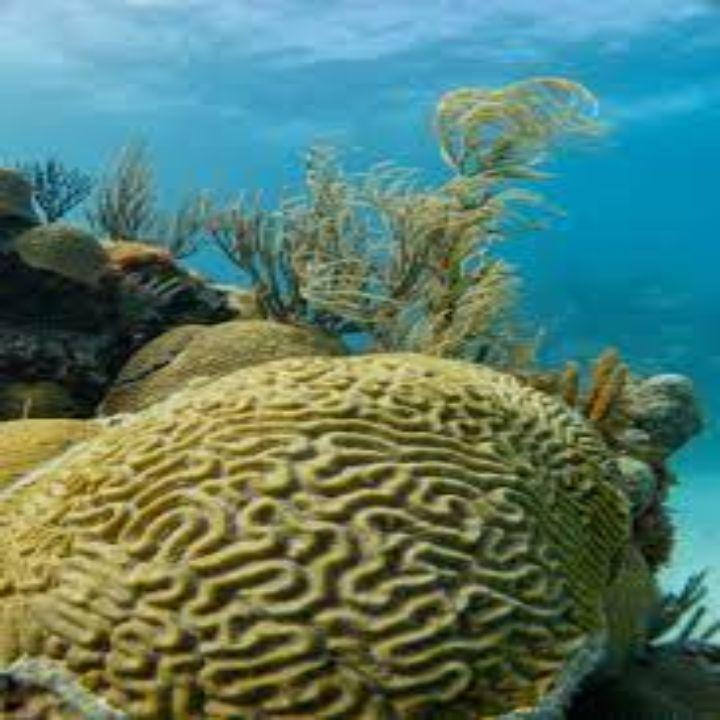Healthy Coral: (30, 331, 666, 705)
